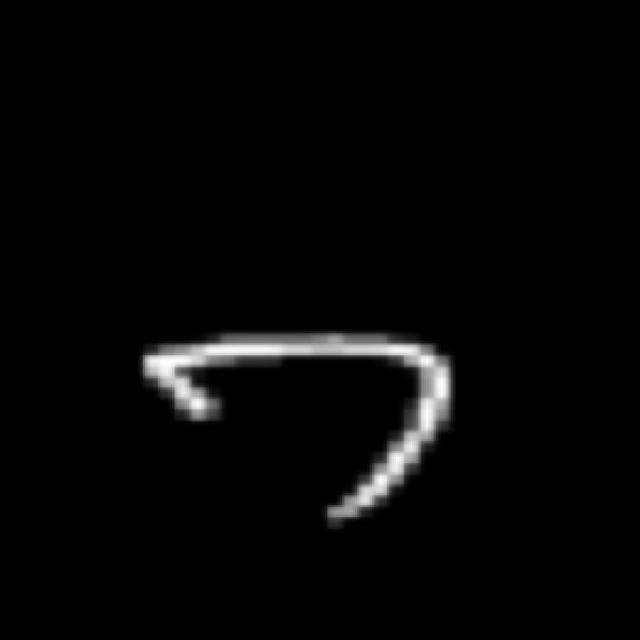seven -7-: (129, 332, 466, 524)
